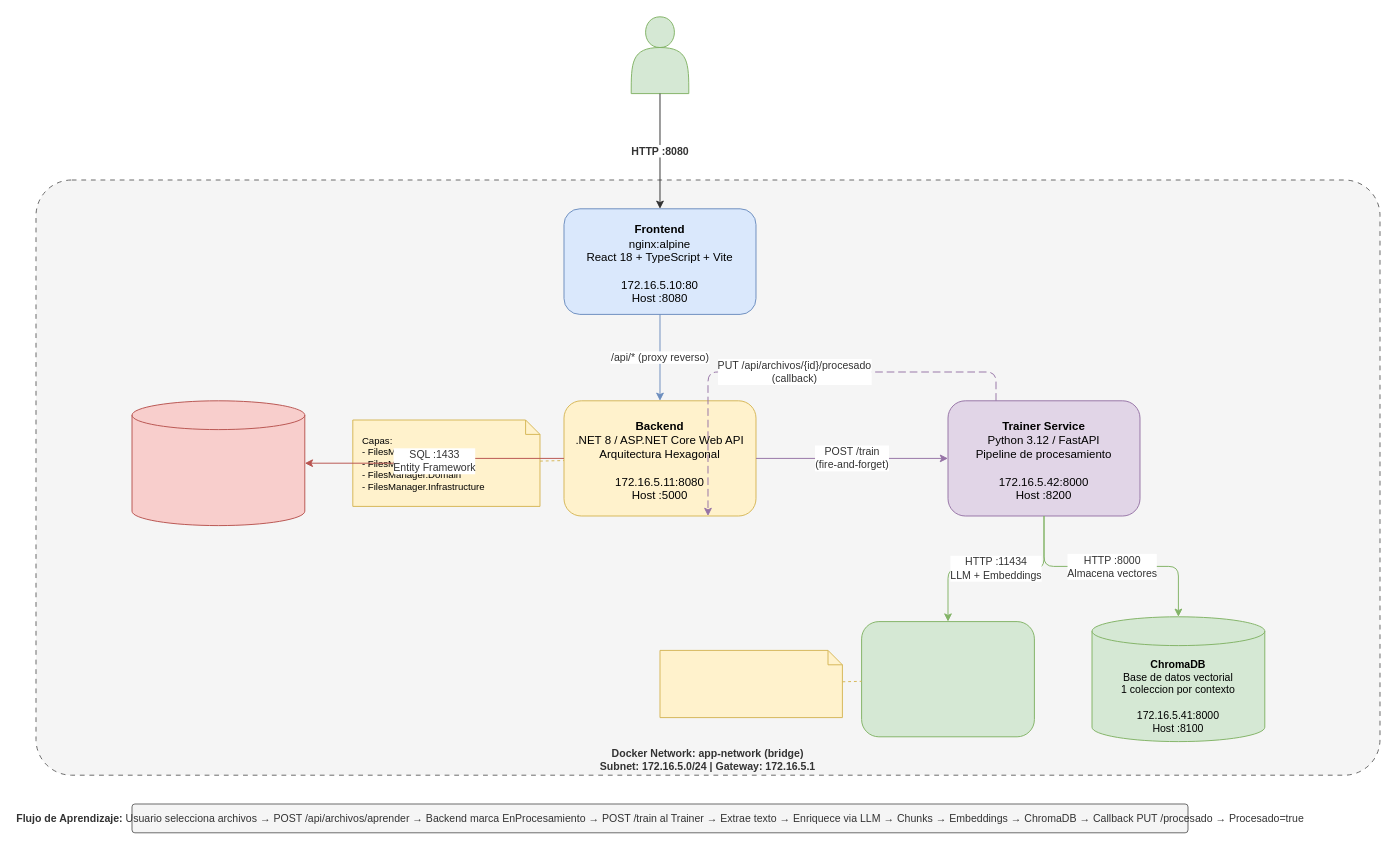
Image size: 1397x850. Some labels were removed from this diagram. The shapes that lost their labels are listed below. From the top down, each one's box as (x1, y1, x2, y2) in pixels, then its label:
(630, 16, 689, 94): Usuario
(131, 400, 305, 526): SQL Server 2022 FilesManagerDB Entity Framework Core 172.16.5.30:1433 Host :1433
(659, 649, 842, 718): Modelos: - gemma3:4b (contexto) - nomic-embed-text (embeddings)
(861, 621, 1034, 737): Ollama Servidor de IA LLM + Embeddings 172.16.5.40:11434 Host :11434
